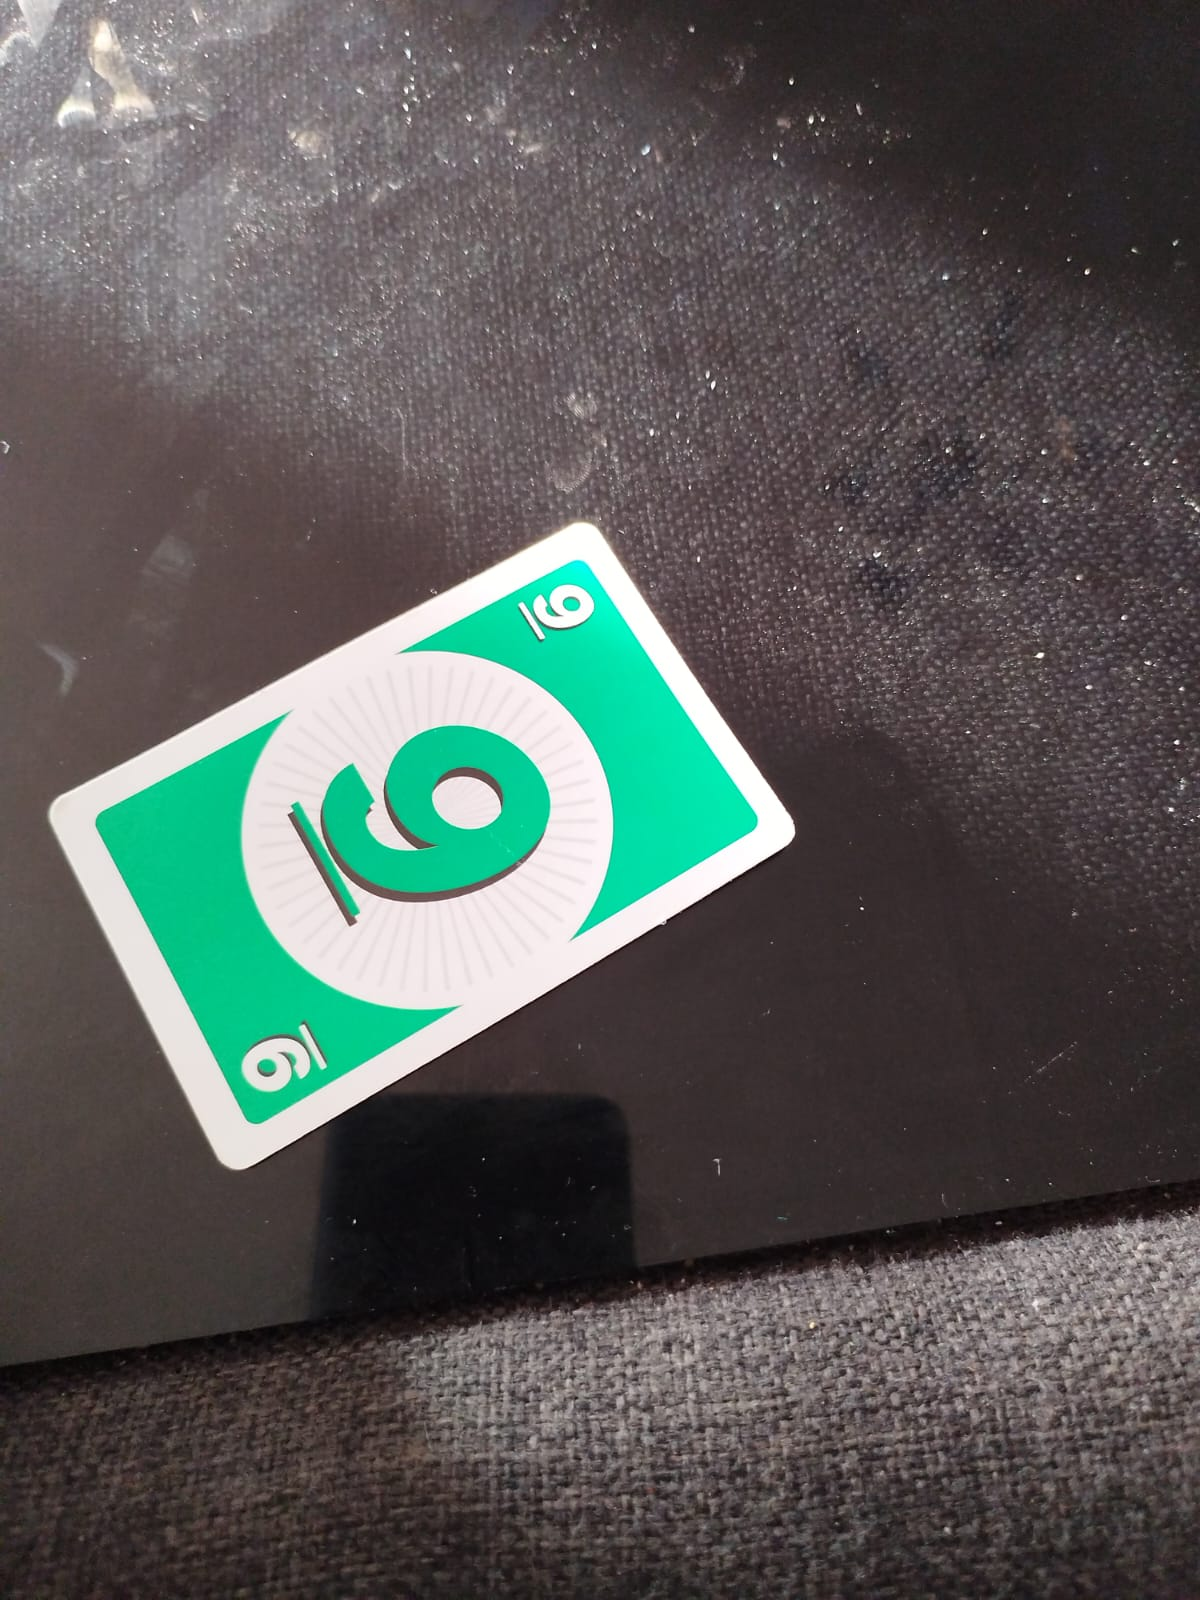draw2_green: (282, 724, 556, 927), (238, 1020, 328, 1094), (518, 582, 600, 645)
